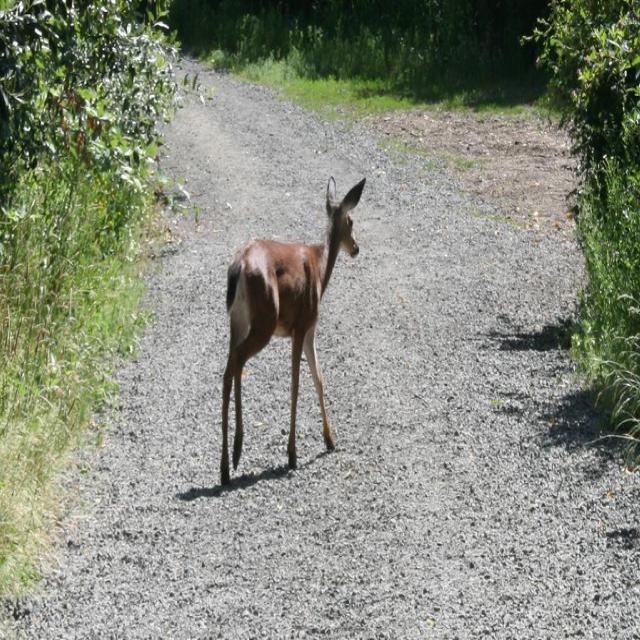Deer: (220, 175, 365, 484)
